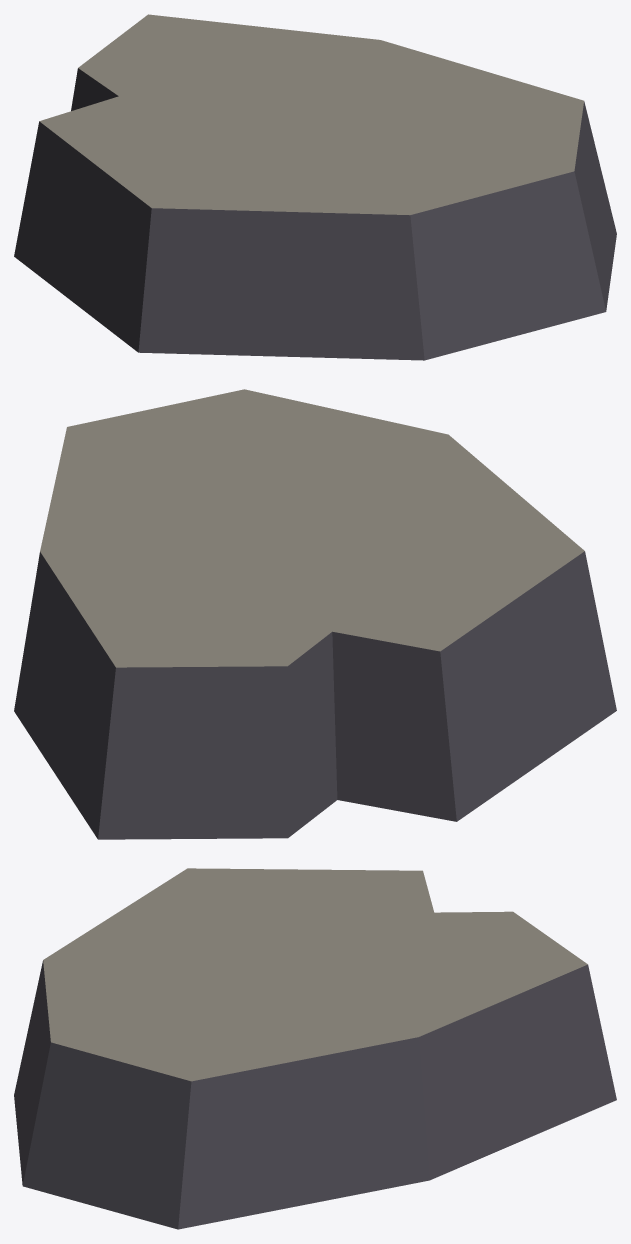
Rendered from TB_Env_RockA.FBX.
3 renders of one model, top to bottom at view 1: azimuth 30°, elevation 25°; view 2: azimuth 150°, elevation 25°; view 3: azimuth 270°, elevation 25°, orthographic. The views are drawn at different scales.
Parts seen in each view (by area): view 1: TB_Env_RockA; view 2: TB_Env_RockA; view 3: TB_Env_RockA.
Part boxes in pixels (<box>): TB_Env_RockA: <box>14,14,616,360</box>; TB_Env_RockA: <box>14,389,616,839</box>; TB_Env_RockA: <box>14,868,616,1229</box>.
Size of the model in its own units: 3.11 by 0.8333 by 3.37.
